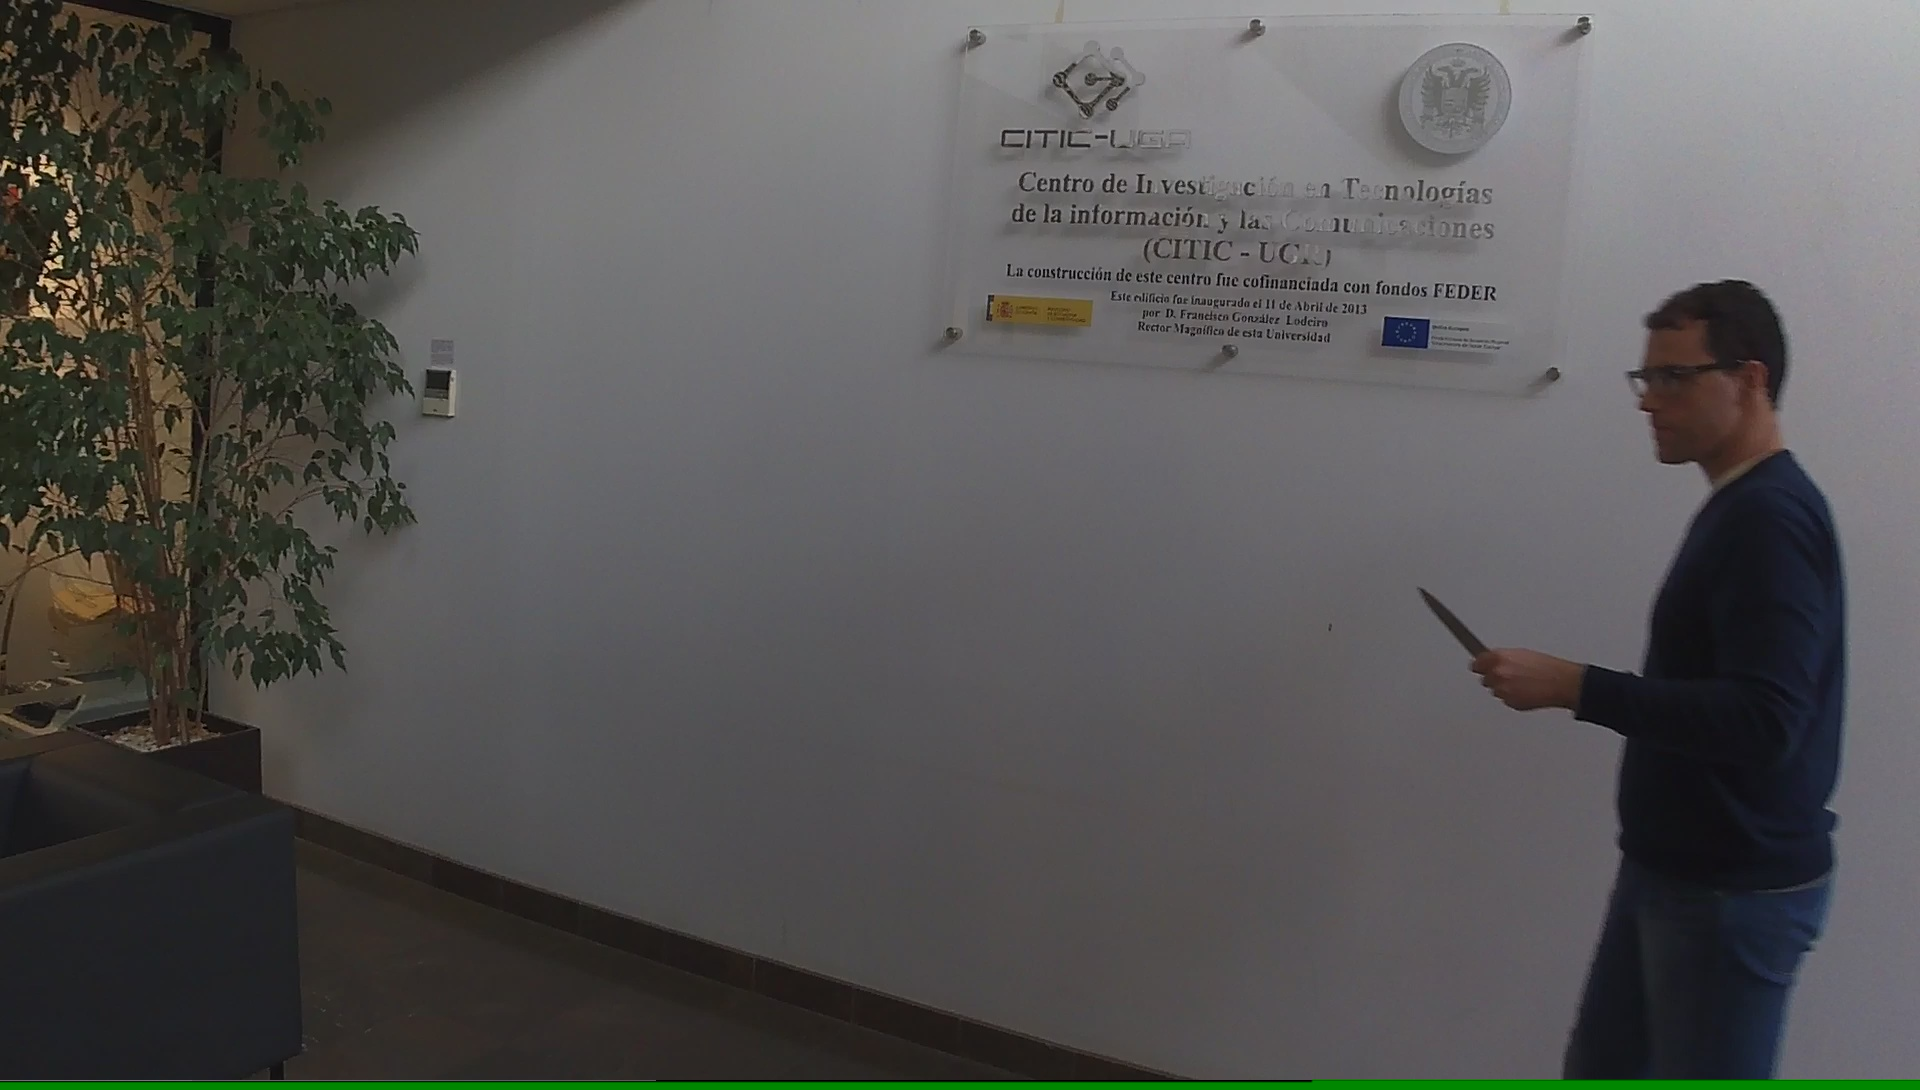knife: (1410, 576, 1534, 718)
